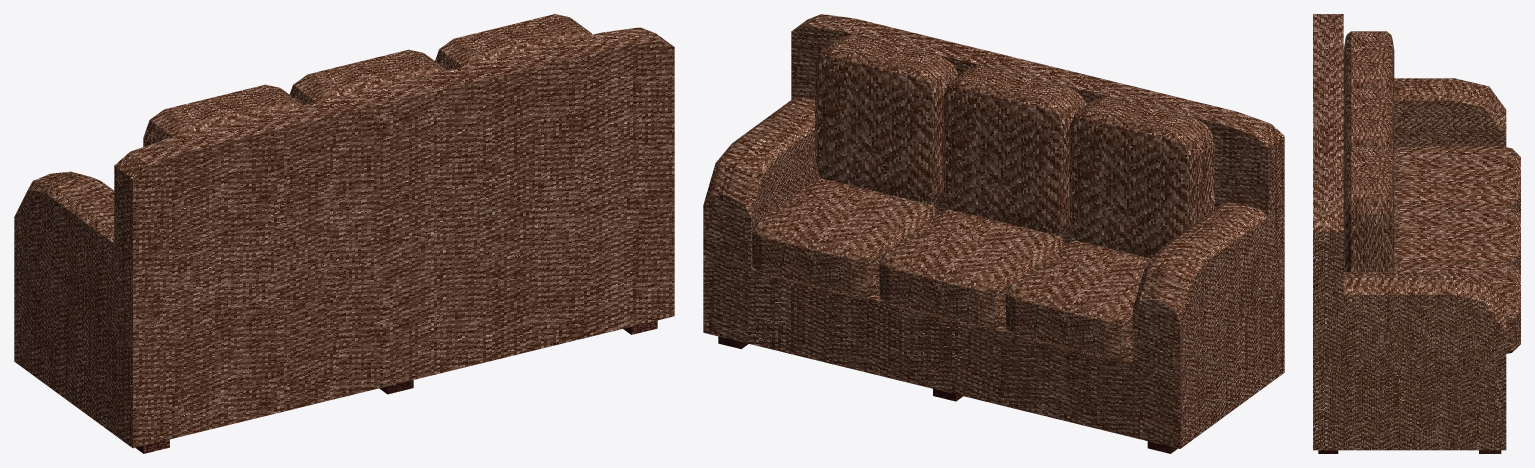
The model's file is Sofa.glb.
3 views of the same model, side by side, from view 1: azimuth 30°, elevation 25°; view 2: azimuth 150°, elevation 25°; view 3: azimuth 270°, elevation 25° (orthographic). The views are drawn at different scales.
Visible parts, largest first — view 1: Sofa, Cube.007, Cube.006, Cube.005; view 2: Sofa, Cube.007, Cube.006, Cube.005, Cube.002, Cube.004, Cube.003; view 3: Sofa, Cube.004, Cube.003, Cube.006, Cube.002, Cube.005, Cube.007.
Boxes of the visible parts, bbox=[...] form: Sofa: bbox=[14, 27, 674, 453]; Cube.007: bbox=[143, 84, 302, 146]; Cube.006: bbox=[435, 14, 592, 70]; Cube.005: bbox=[289, 49, 446, 105]; Sofa: bbox=[703, 14, 1284, 453]; Cube.007: bbox=[1069, 96, 1214, 258]; Cube.006: bbox=[815, 34, 957, 205]; Cube.005: bbox=[943, 66, 1086, 237]; Cube.002: bbox=[752, 178, 936, 297]; Cube.004: bbox=[879, 209, 1064, 328]; Cube.003: bbox=[1006, 240, 1151, 359]; Sofa: bbox=[1313, 14, 1506, 453]; Cube.004: bbox=[1394, 203, 1520, 270]; Cube.003: bbox=[1394, 146, 1520, 213]; Cube.006: bbox=[1343, 146, 1394, 272]; Cube.002: bbox=[1394, 260, 1520, 353]; Cube.005: bbox=[1343, 88, 1394, 163]; Cube.007: bbox=[1343, 31, 1394, 105].
Bounding box in the file's own units: 2 × 1.05 × 0.8172.
Materials: 2 (2 with a texture image).
